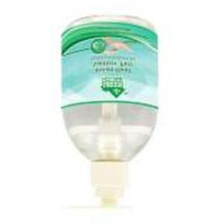aerosol_cans: (54, 10, 162, 214)
